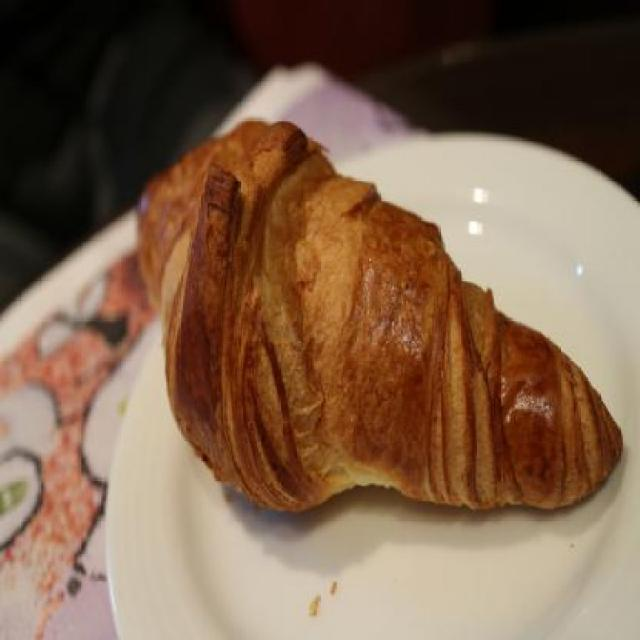Croissant: (135, 116, 620, 512)
